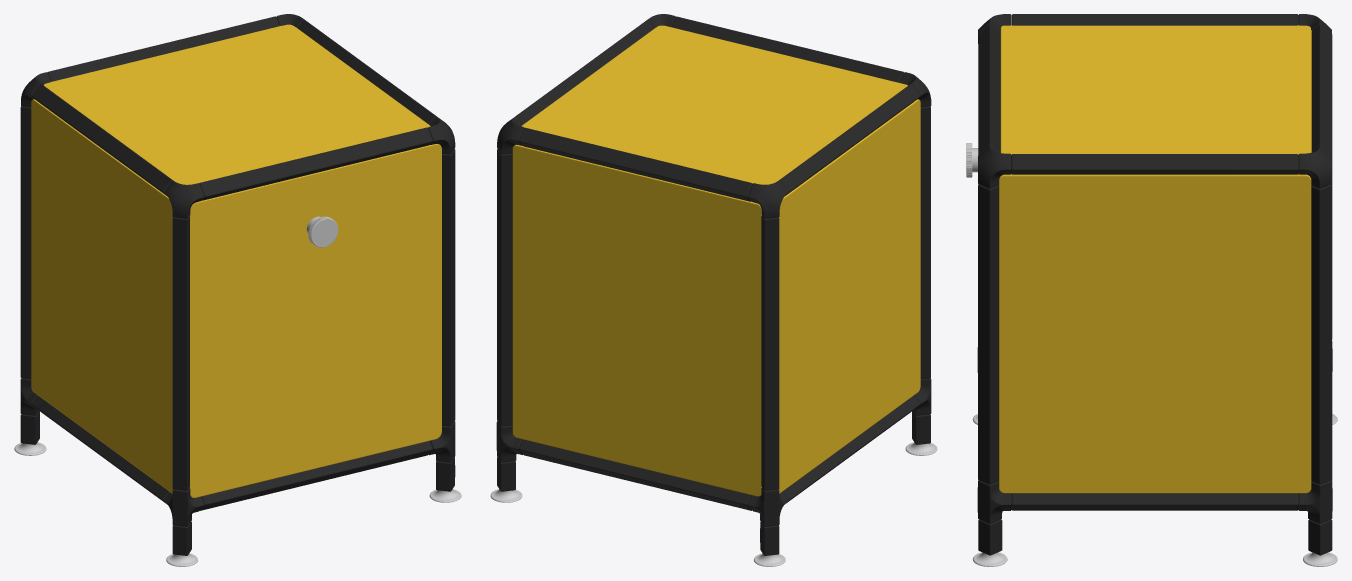
3 renders of one model, left to right at view 1: azimuth 30°, elevation 25°; view 2: azimuth 150°, elevation 25°; view 3: azimuth 270°, elevation 25°, orthographic. The views are drawn at different scales.
Parts seen in each view (by area): view 1: 329x329x374; view 2: 329x329x374; view 3: 329x329x374.
Part boxes in pixels (<box>): 329x329x374: <box>14,14,461,566</box>; 329x329x374: <box>490,14,937,566</box>; 329x329x374: <box>966,14,1337,566</box>.
Bounding box in the file's own units: 0.4189 × 0.5133 × 0.4257.
